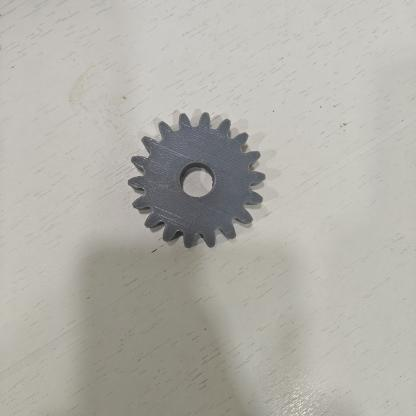gear: (105, 103, 287, 262)
